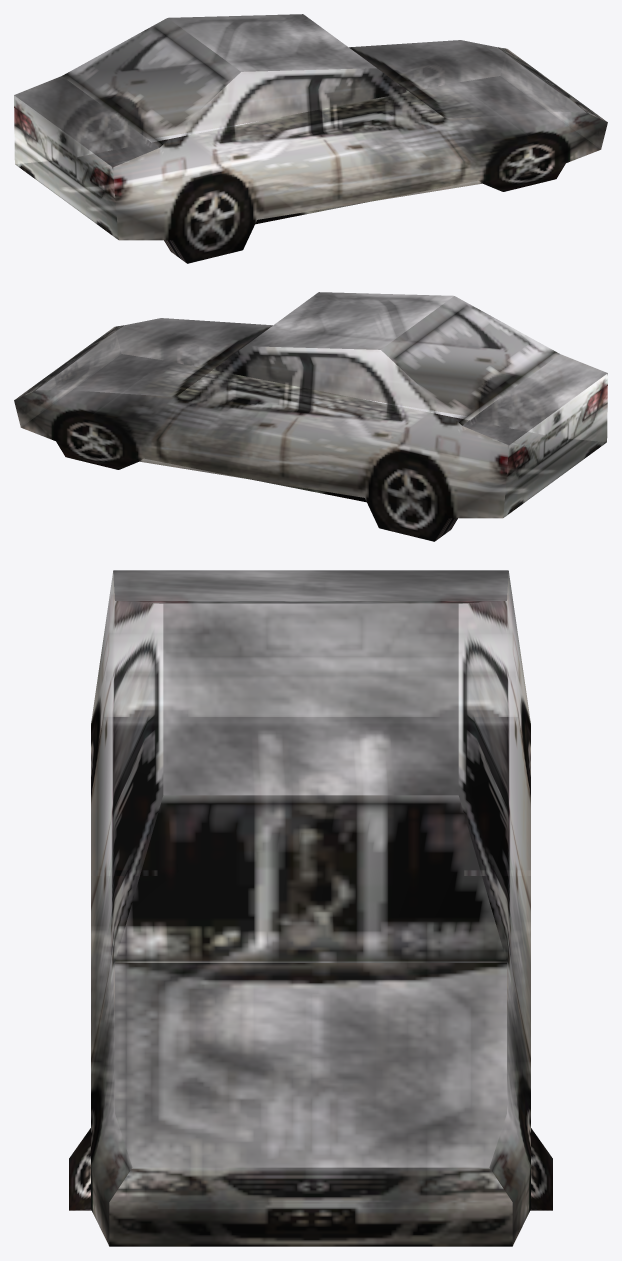
Rendered from Shared - Ground Vehicles - Car Sedan 01 - Damage State 1 - CVSEDAN01_d1.glb.
The picture shows the model from 3 angles, top to bottom: view 1: azimuth 30°, elevation 25°; view 2: azimuth 150°, elevation 25°; view 3: azimuth 270°, elevation 25°; orthographic projection. The views are drawn at different scales.
Visible parts, largest first — view 1: CVSEDAN01_D1; view 2: CVSEDAN01_D1; view 3: CVSEDAN01_D1.
Boxes of the visible parts, left/top/right/bottom form: CVSEDAN01_D1: left=14, top=14, right=607, bottom=263; CVSEDAN01_D1: left=14, top=292, right=607, bottom=541; CVSEDAN01_D1: left=69, top=570, right=552, bottom=1246.
Size of the model in its own units: 25.74 by 8.02 by 10.92.
1 material, 1 textured.
